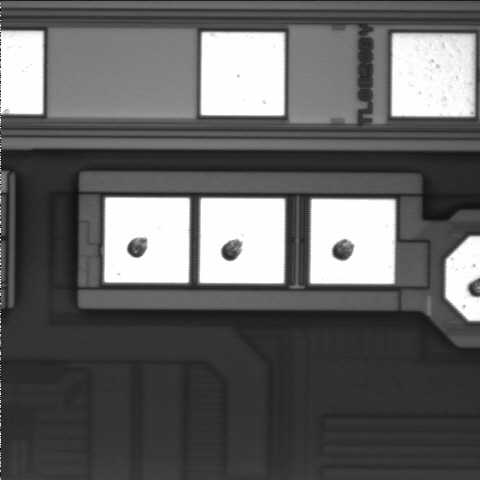pad: (104, 198, 190, 283), (200, 198, 285, 283), (310, 199, 395, 284), (201, 32, 284, 115), (392, 34, 474, 116)
